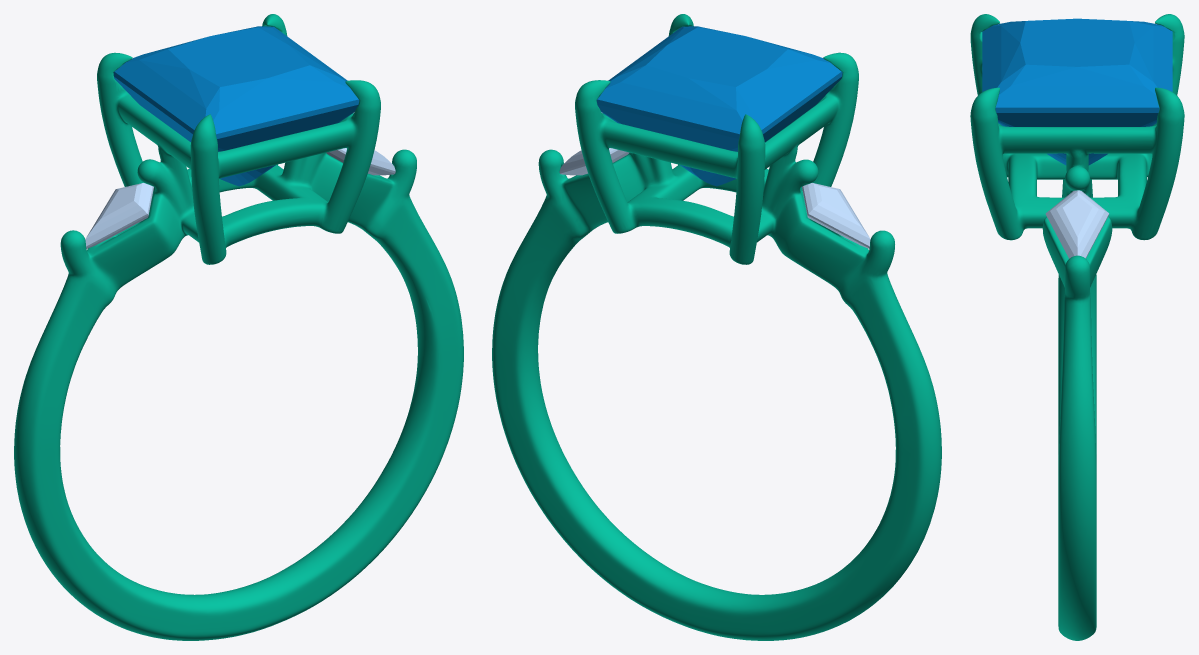
Rendered from BE1D6317_PR_200ct_RENDER.glb.
The picture shows the model from 3 angles, left to right: view 1: azimuth 30°, elevation 25°; view 2: azimuth 150°, elevation 25°; view 3: azimuth 270°, elevation 25°; orthographic projection.
Visible parts, largest first — view 1: Metal 01, CS_Diamond_Princess, Diamond_Marquise_Side, Diamond_Marquise_Side.001; view 2: Metal 01, CS_Diamond_Princess, Diamond_Marquise_Side, Diamond_Marquise_Side.001; view 3: Metal 01, CS_Diamond_Princess, Diamond_Marquise_Side.001.
Boxes of the visible parts, x1,y1,x2,y2 form: Metal 01: (14,14,463,640); CS_Diamond_Princess: (113,26,359,186); Diamond_Marquise_Side: (85,183,153,248); Diamond_Marquise_Side.001: (326,148,395,175); Metal 01: (492,14,941,640); CS_Diamond_Princess: (596,26,842,186); Diamond_Marquise_Side: (802,183,870,248); Diamond_Marquise_Side.001: (559,148,629,175); Metal 01: (970,14,1184,640); CS_Diamond_Princess: (982,18,1172,165); Diamond_Marquise_Side.001: (1045,190,1109,258).
Bounding box in the file's own units: 20.09 × 24.9 × 8.42.
